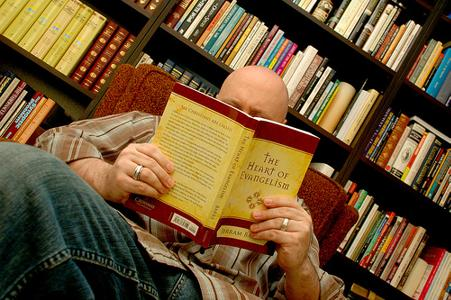person: (1, 68, 323, 300)
